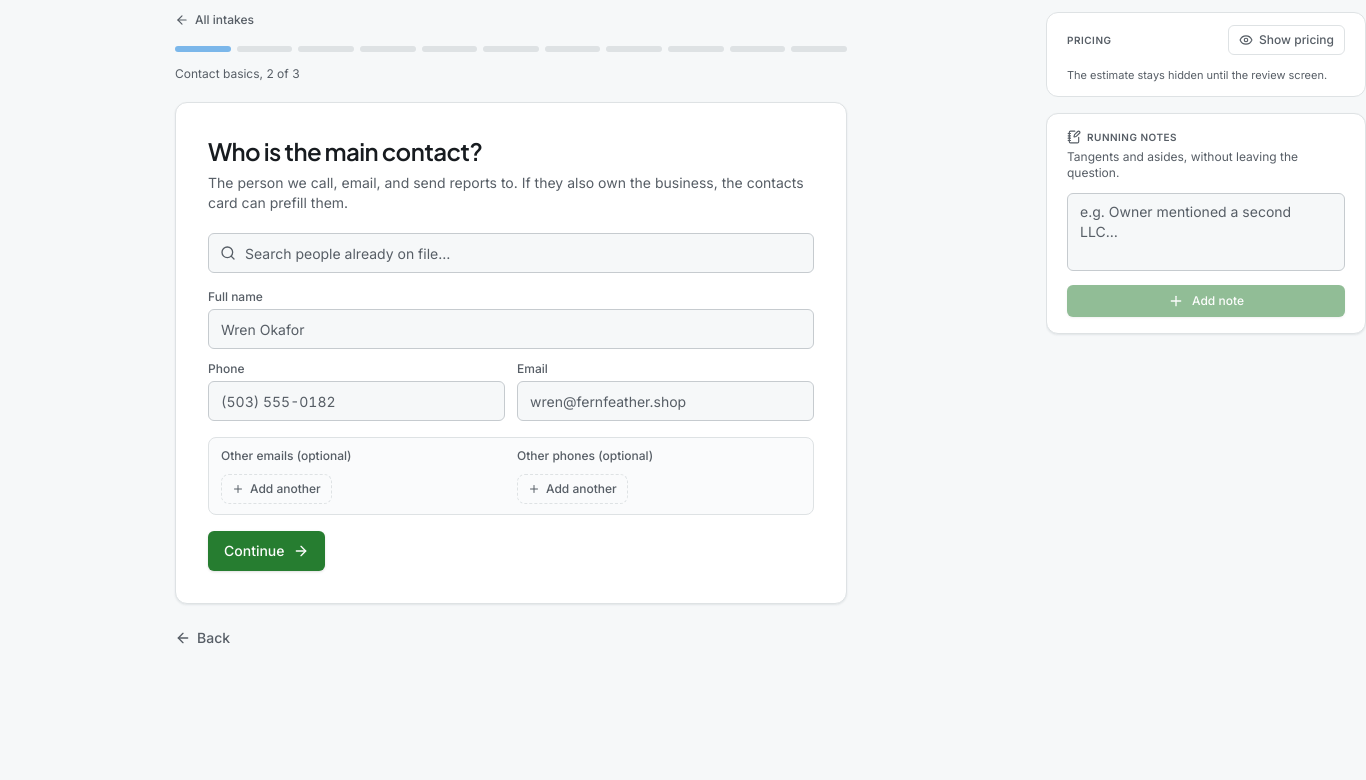
Test: running notes rail › appends timestamped notes and persists them through autosave
The width and height of the screenshot is (1366, 780).
Type "Owner also runs a second LLC" into the text box with test id "running-note-input" at (1206, 232), box [1067,192,1345,270]
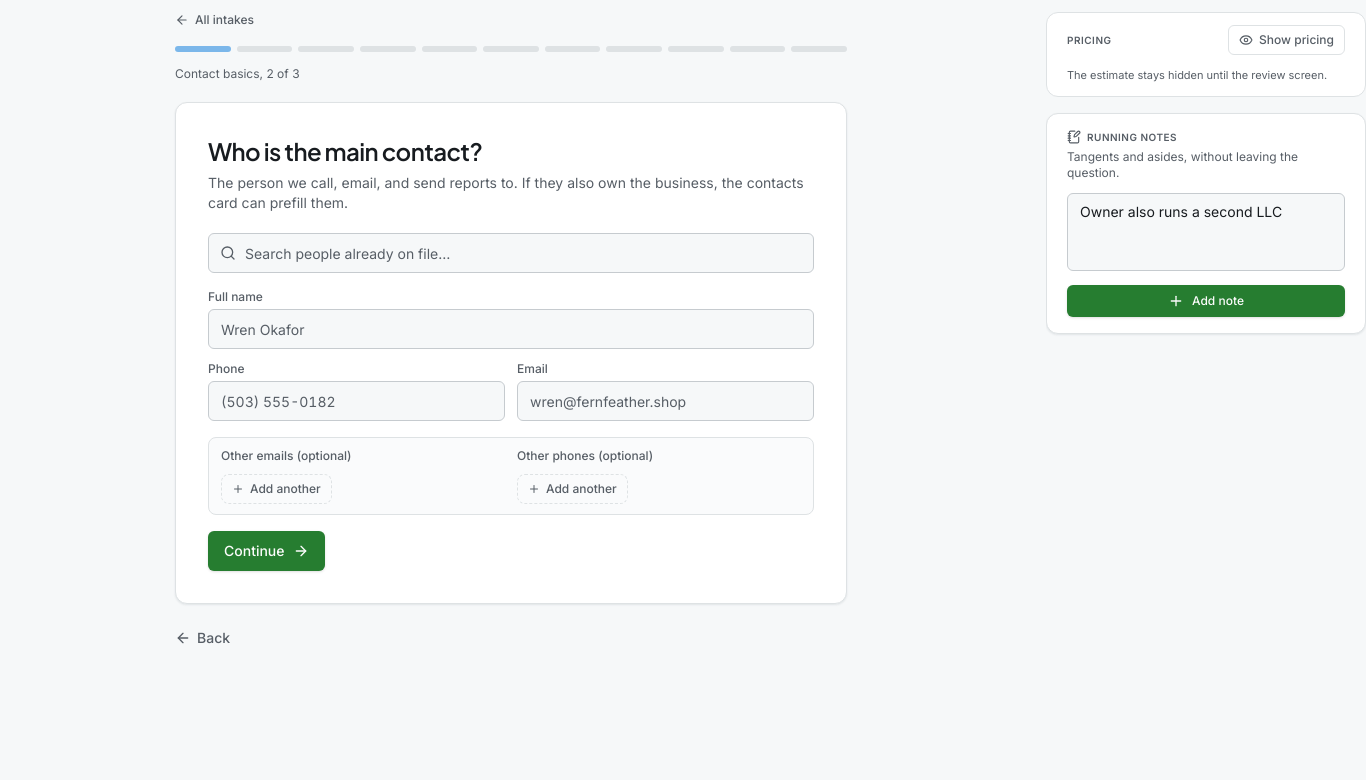
Click the button with test id "running-note-add" at (1206, 300), box [1067,284,1345,316]
Wait 850 ms
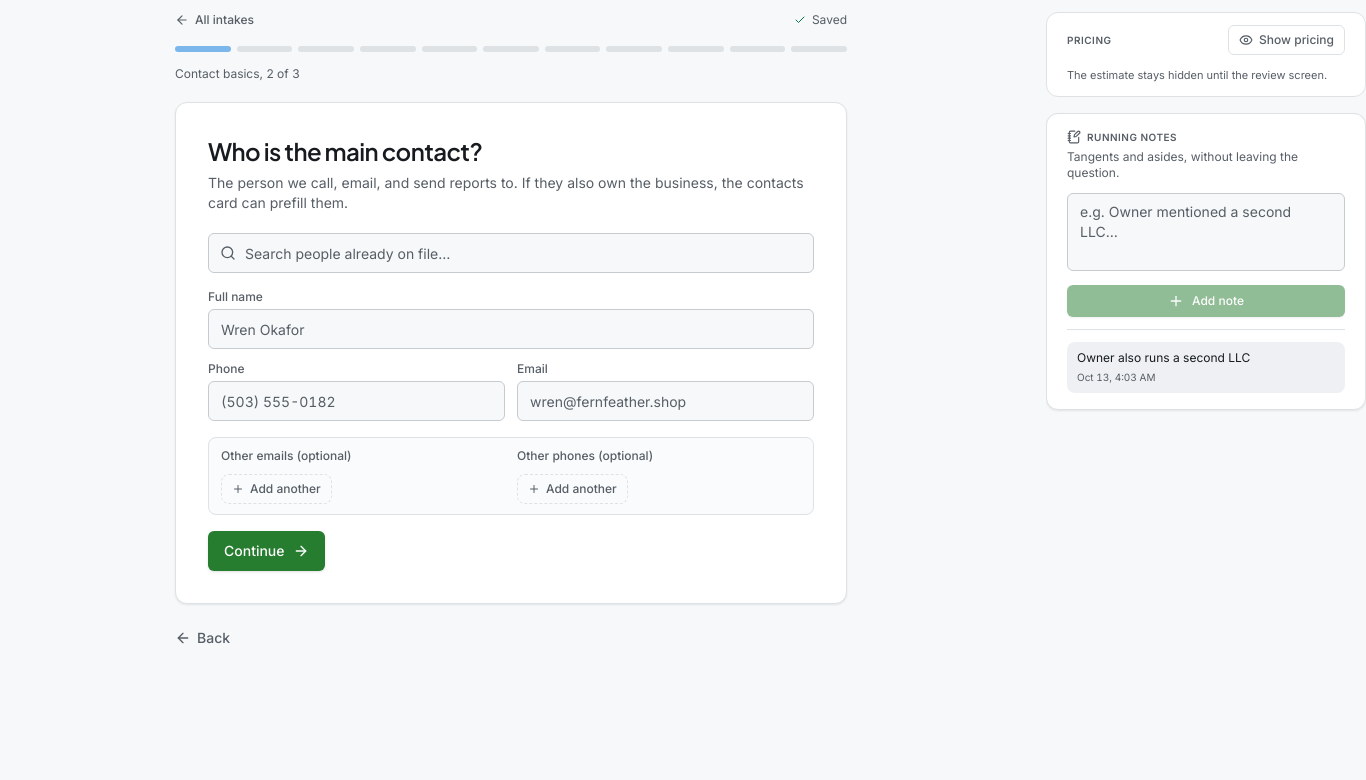
Expected: the number of list items with test id "running-note" is 1, [1067,342,1345,392]
Expected: the text "Owner also runs a second LLC" is shown, [1077,350,1250,364]
Expected: the text box with test id "running-note-input" is empty, [1067,192,1345,270]
